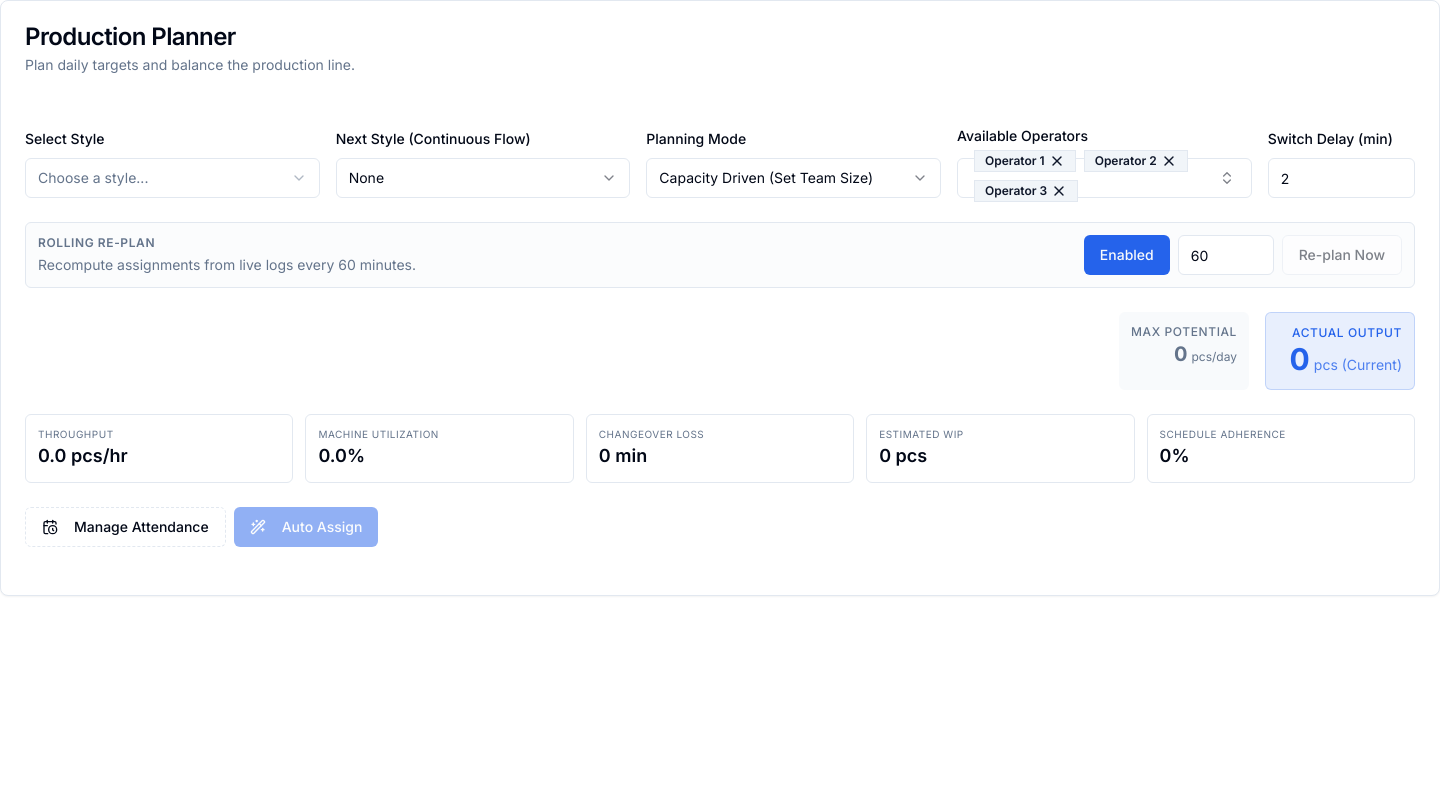
Scenario: ProductionPlanner › renders the planner and allows style selection
Expected: the heading "Production Planner" is shown, [25,22,236,51]
Click the dropdown labelled "Choose a style...".
click(93, 178)  # box [25,158,320,198]
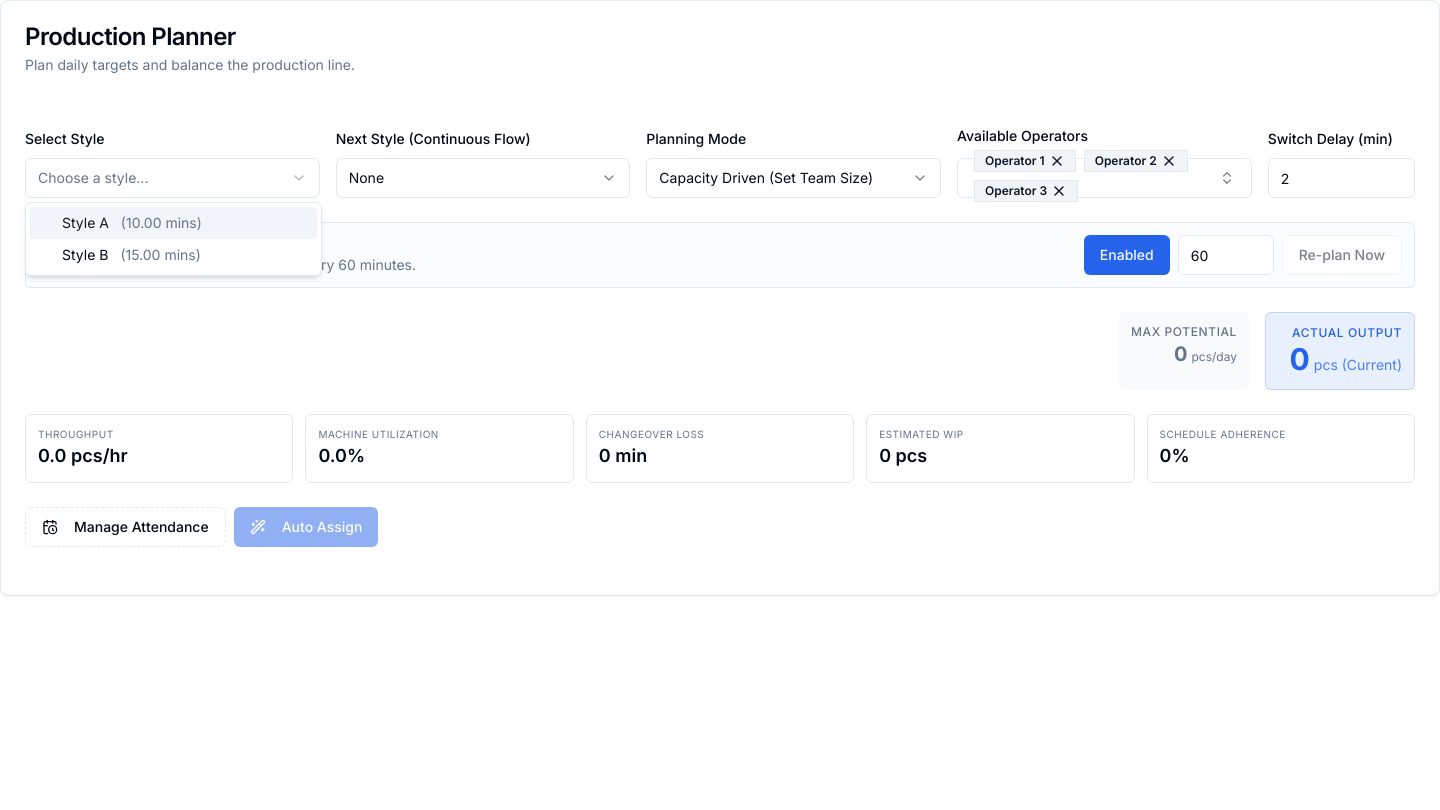
Click the option "Style A (10.00 mins)".
click(173, 223)  # box [30,207,317,239]
(page scrolled)
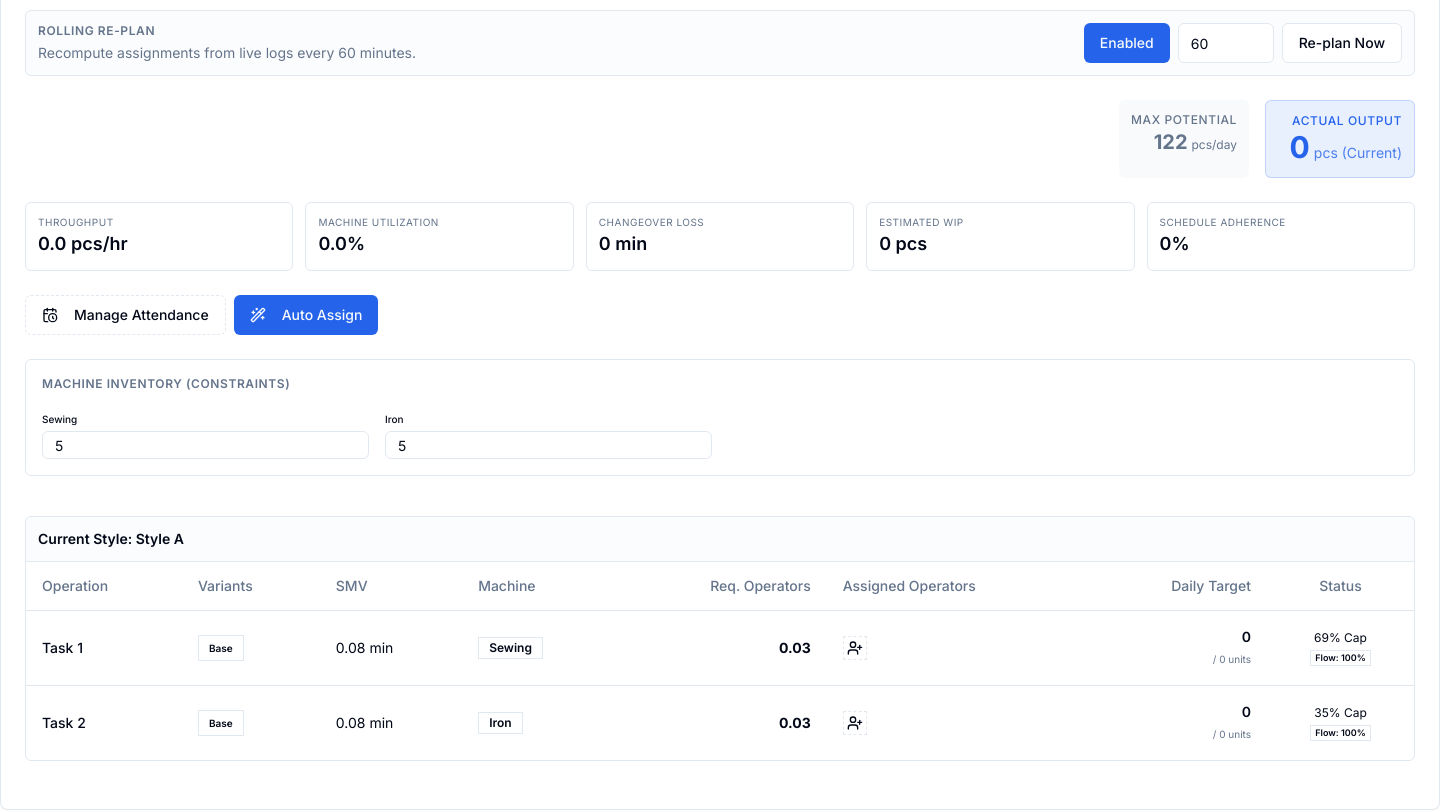
Result: the text "Task 1" is shown at [42,638,83,656]
Result: the text "Task 2" is shown at [42,714,86,730]
